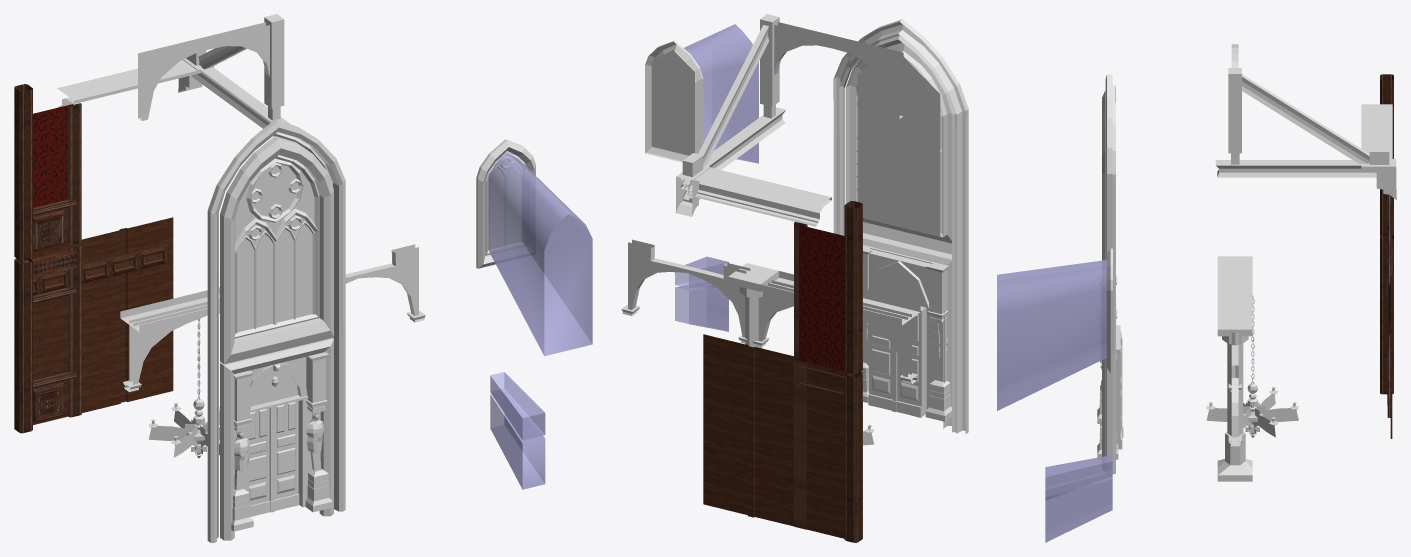
The model's file is AssetsHall2.fbx.
3 renders of one model, left to right at view 1: azimuth 30°, elevation 25°; view 2: azimuth 150°, elevation 25°; view 3: azimuth 270°, elevation 25°, orthographic. The views are drawn at different scales.
Visible parts, largest first — view 1: MolduraJanelaPortaHall, VolumetriaFalsa, JanelaHallGrande, FundoParedeHall, JanelaHallGrandeVidro, PortaHall, VolumetriaFalsaEscritorio, MolduraPortaHall, ArcoTeto, ArcoPrincipal, FundoParedeHallSozinha, PapelDeParedeHall (+19 smaller); view 2: FundoParedeHall, MolduraJanelaPortaHall, JanelaHallGrandeVidro, JanelaHallGrande, FundoParedeHallSozinha, PapelDeParedeHall, VolumetriaFalsa, MolduraPortaHall, ArcoPrincipal, CumeeiraHall, JanelaHallPequenaVidro, PortaHall (+16 smaller); view 3: VolumetriaFalsa, VolumetriaFalsaEscritorio, MolduraJanelaPortaHall, Coluna, SuporteTetoDiagonal, ArcoPrincipal, SuporteTeto, Lustre, SuporteTetoVertical, ColunasHallCantoTerreo, CumeeiraHall, CumeeiraHallSuporte (+8 smaller).
Part boxes in pixels (x1,y1,x2,y2): MolduraJanelaPortaHall: (207, 119, 345, 542); VolumetriaFalsa: (488, 151, 592, 356); JanelaHallGrande: (220, 136, 333, 364); FundoParedeHall: (74, 217, 173, 412); JanelaHallGrandeVidro: (235, 158, 314, 332); PortaHall: (249, 401, 299, 516); VolumetriaFalsaEscritorio: (490, 372, 545, 489); MolduraPortaHall: (234, 357, 320, 507); ArcoTeto: (138, 22, 269, 120); ArcoPrincipal: (120, 287, 219, 391); FundoParedeHallSozinha: (24, 243, 74, 424); PapelDeParedeHall: (33, 104, 73, 207); FundoParedeHall: (703, 334, 799, 526); MolduraJanelaPortaHall: (833, 19, 968, 433); JanelaHallGrandeVidro: (857, 57, 940, 236); JanelaHallGrande: (845, 39, 951, 258); FundoParedeHallSozinha: (800, 360, 847, 539); PapelDeParedeHall: (799, 225, 844, 370); VolumetriaFalsa: (684, 24, 758, 163); MolduraPortaHall: (863, 248, 944, 416); ArcoPrincipal: (748, 271, 920, 384); CumeeiraHall: (687, 168, 831, 226); JanelaHallPequenaVidro: (651, 50, 694, 155); PortaHall: (868, 310, 923, 417); VolumetriaFalsa: (997, 259, 1113, 410); VolumetriaFalsaEscritorio: (1045, 455, 1112, 542); MolduraJanelaPortaHall: (1102, 74, 1115, 474); Coluna: (1217, 314, 1252, 481); SuporteTetoDiagonal: (1242, 74, 1369, 163); ArcoPrincipal: (1217, 256, 1252, 314); SuporteTeto: (1252, 160, 1376, 177); Lustre: (1206, 383, 1298, 437); SuporteTetoVertical: (1215, 68, 1252, 177); ColunasHallCantoTerreo: (1380, 235, 1393, 394); CumeeiraHall: (1361, 104, 1392, 158); CumeeiraHallSuporte: (1361, 147, 1396, 200).
Bounding box in the file's own units: 11.19 × 12.8 × 11.42.
